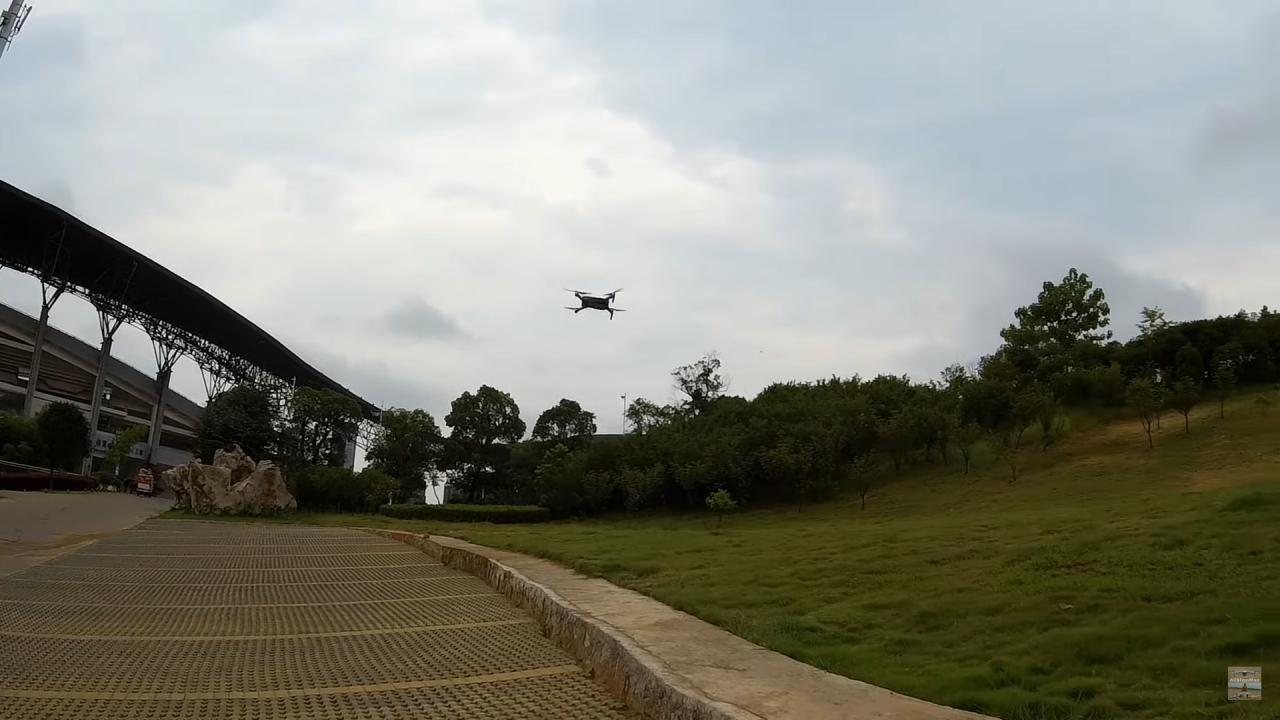Drone: (550, 279, 630, 326)
